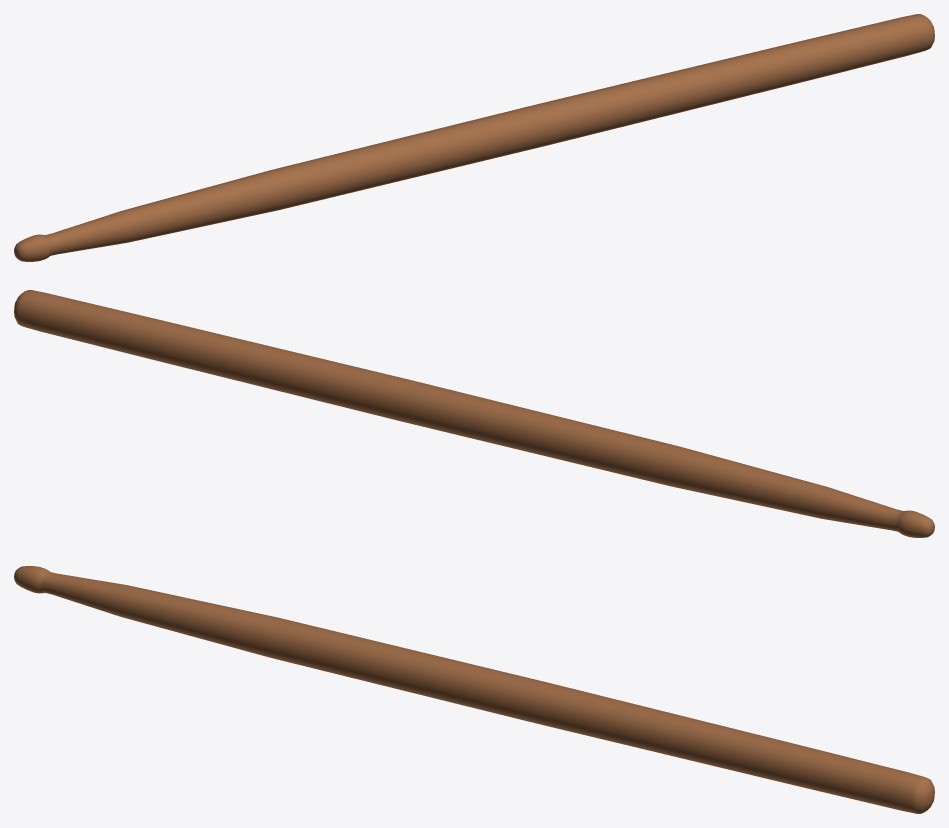
Rendered from DrumStick.fbx.
3 views of the same model, one above another, from view 1: azimuth 30°, elevation 25°; view 2: azimuth 150°, elevation 25°; view 3: azimuth 330°, elevation 25° (orthographic).
Parts seen in each view (by area): view 1: DrumStick; view 2: DrumStick; view 3: DrumStick.
Boxes of the visible parts, x1=… form: DrumStick: x1=14, y1=14, x2=934, y2=261; DrumStick: x1=14, y1=290, x2=934, y2=537; DrumStick: x1=14, y1=566, x2=934, y2=813.
Size of the model in its own units: 40.65 by 1.62 by 1.62.
